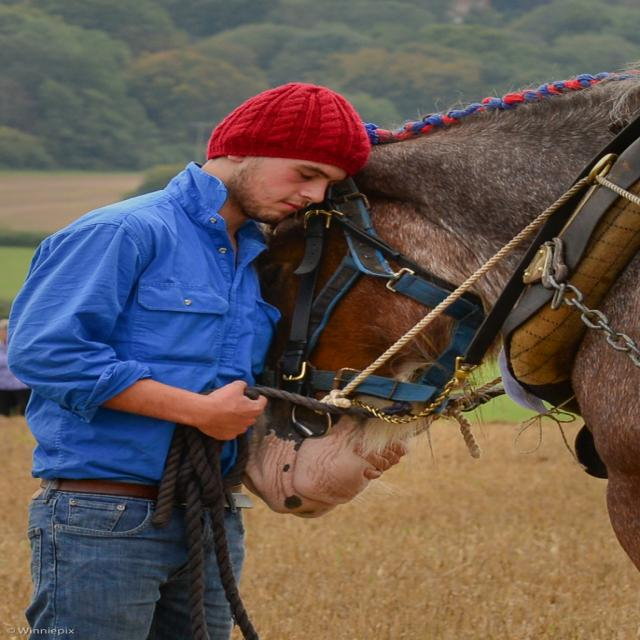Horse: (239, 64, 640, 572)
